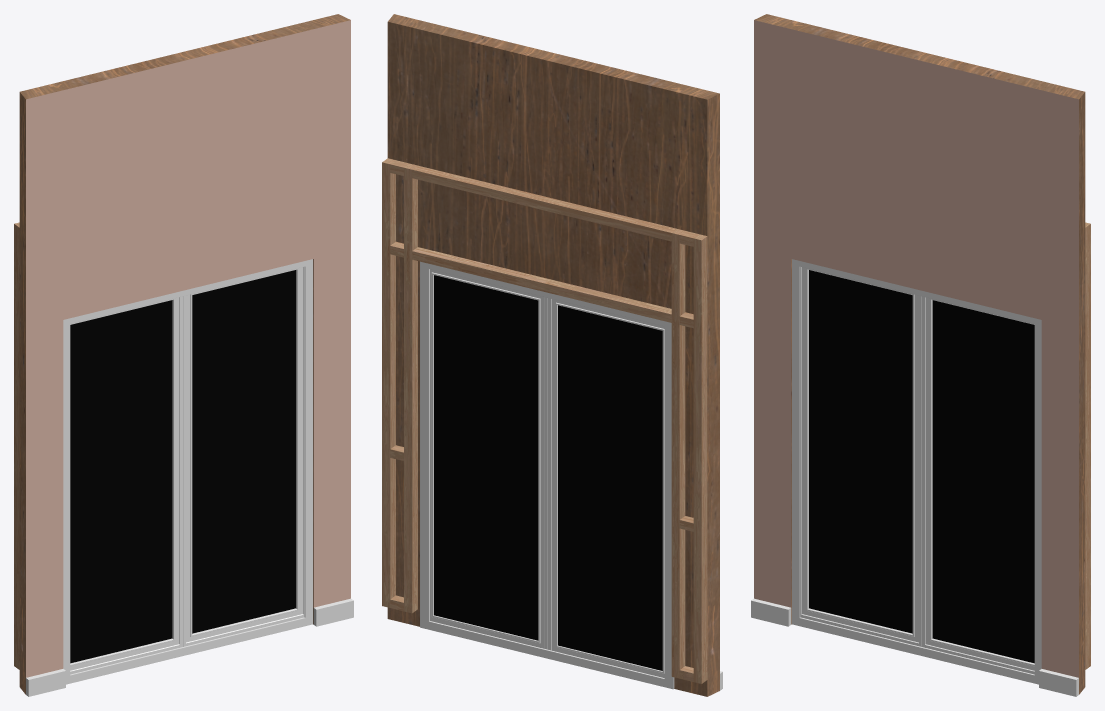
Rendered from MovieSet_WallWindow_03.fbx.
3 renders of one model, left to right at view 1: azimuth 30°, elevation 25°; view 2: azimuth 150°, elevation 25°; view 3: azimuth 330°, elevation 25°, orthographic.
Visible parts, largest first — view 1: MovieSet_Wall_Window_03; view 2: MovieSet_Wall_Window_03; view 3: MovieSet_Wall_Window_03.
Boxes of the visible parts, box(x1,y1,x2,y2) form: MovieSet_Wall_Window_03: box(14, 14, 353, 696); MovieSet_Wall_Window_03: box(382, 14, 722, 696); MovieSet_Wall_Window_03: box(751, 14, 1090, 696).
Bounding box in the file's own units: 2 × 3.5 × 0.19.
